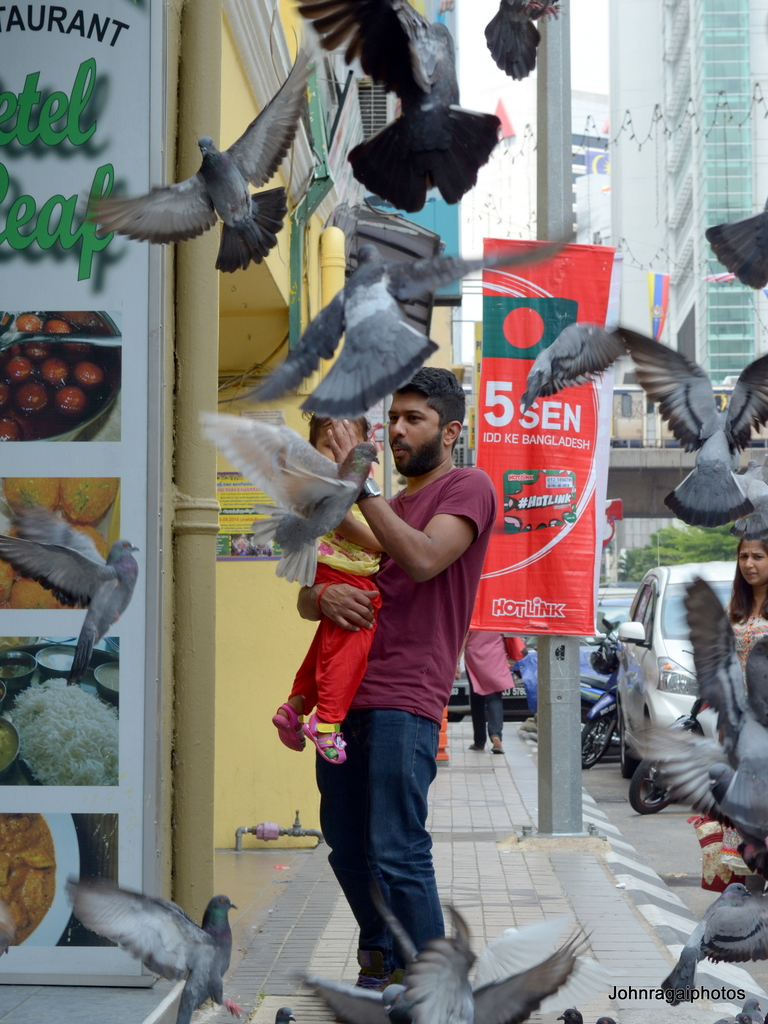Human_hand: (321, 583, 378, 630), (327, 415, 367, 474)
